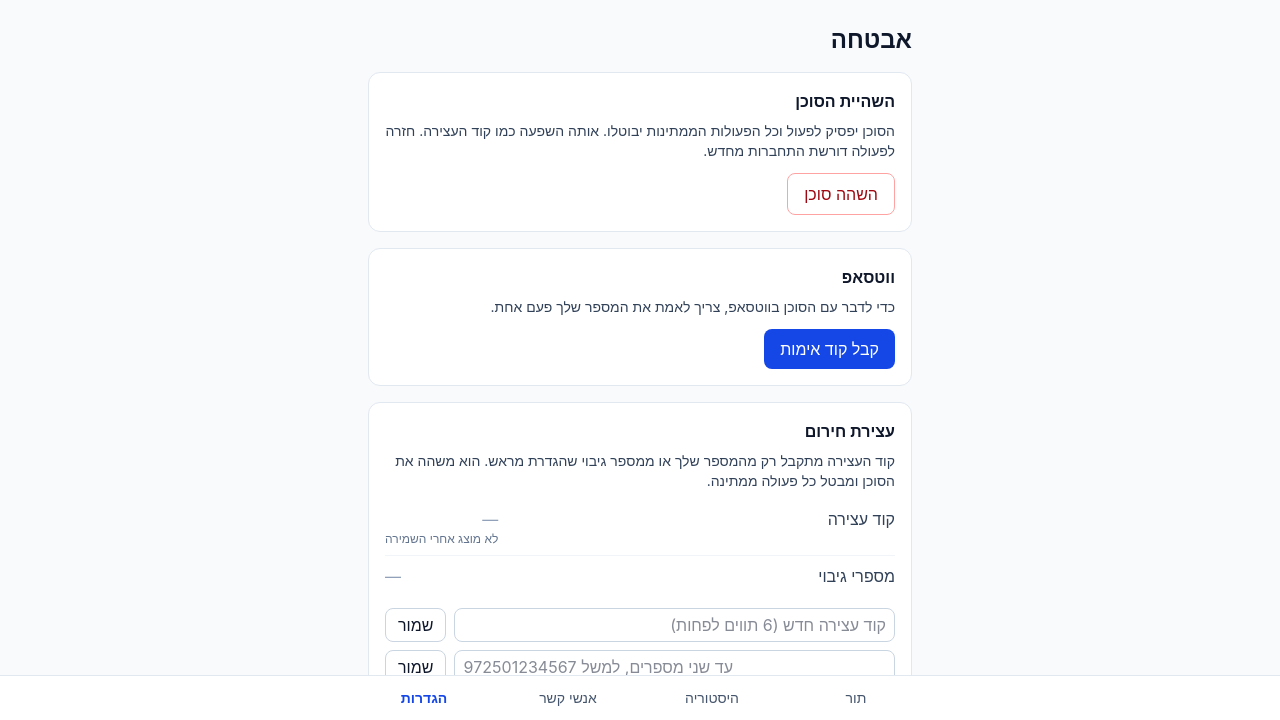
Test: security screen › asks for a fresh Google login before a sensitive change
Type "purple elephant 42" into the password field labelled "קוד עצירה חדש" at (675, 625), box [454,608,895,642]
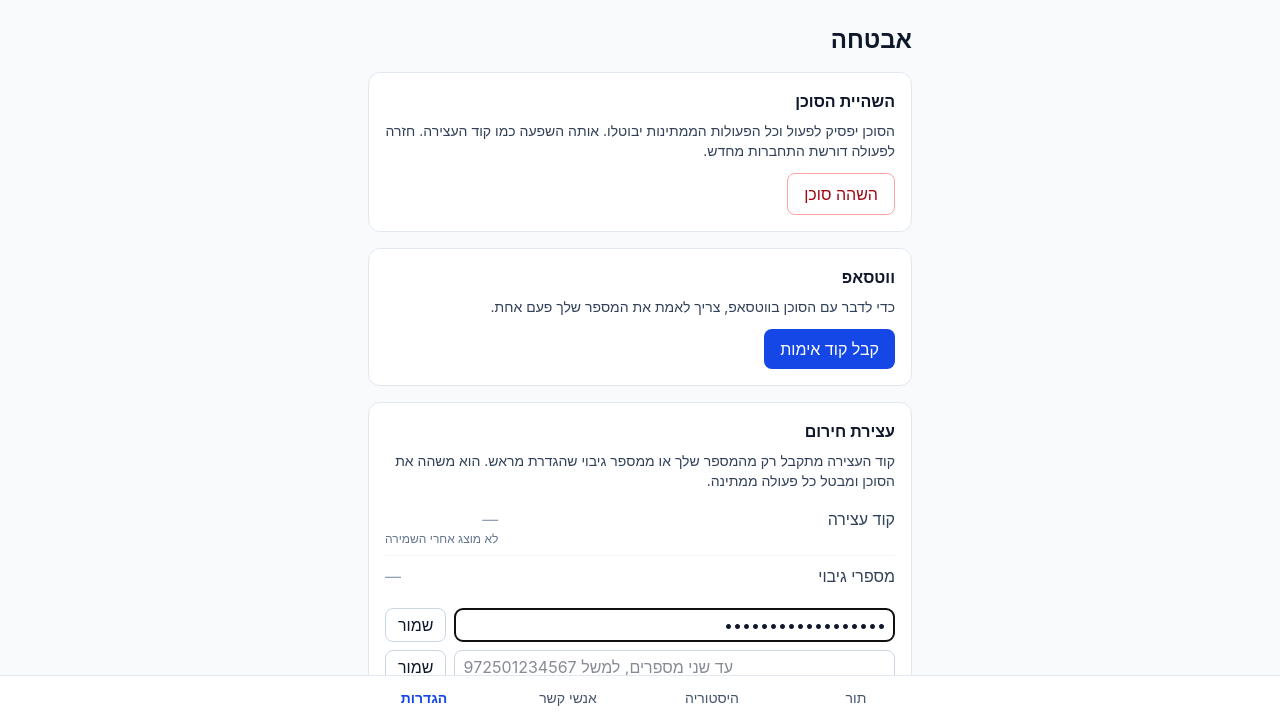
Click the 1st button "שמור" at (416, 625), box [385,608,446,642]
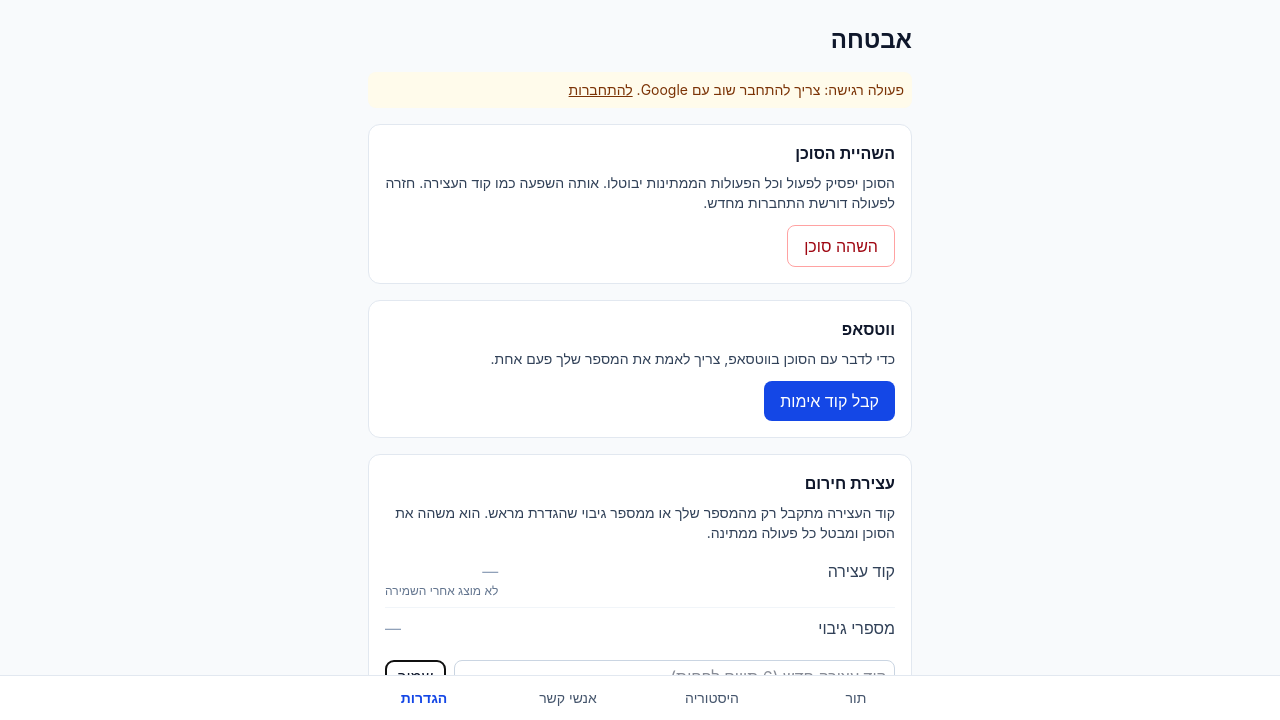
Expected: the message shows "להתחבר שוב", [637,81,904,98]
